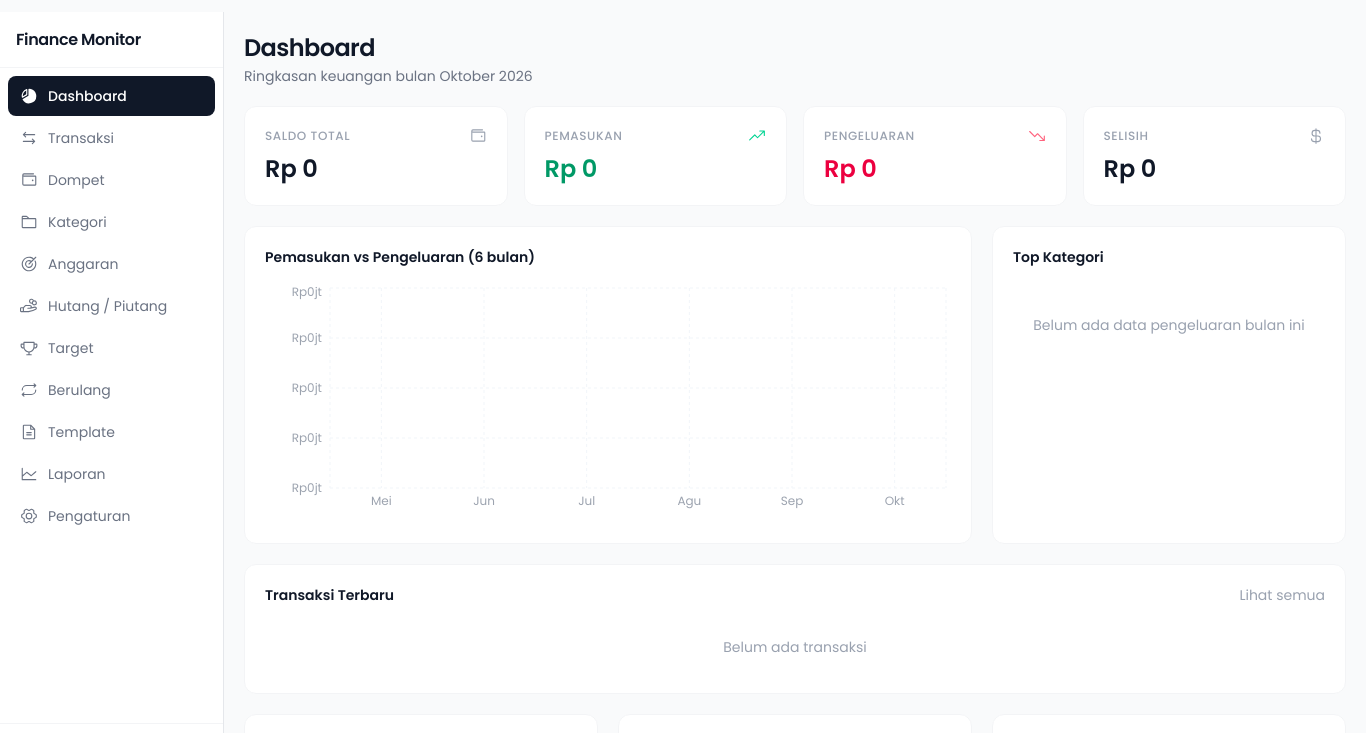
Test case: Navigation Integration › navigasi ke halaman Dompet saat link diklik
The image size is (1366, 733).
Click the link "Dompet": (62, 180) 20,170 -> 104,190
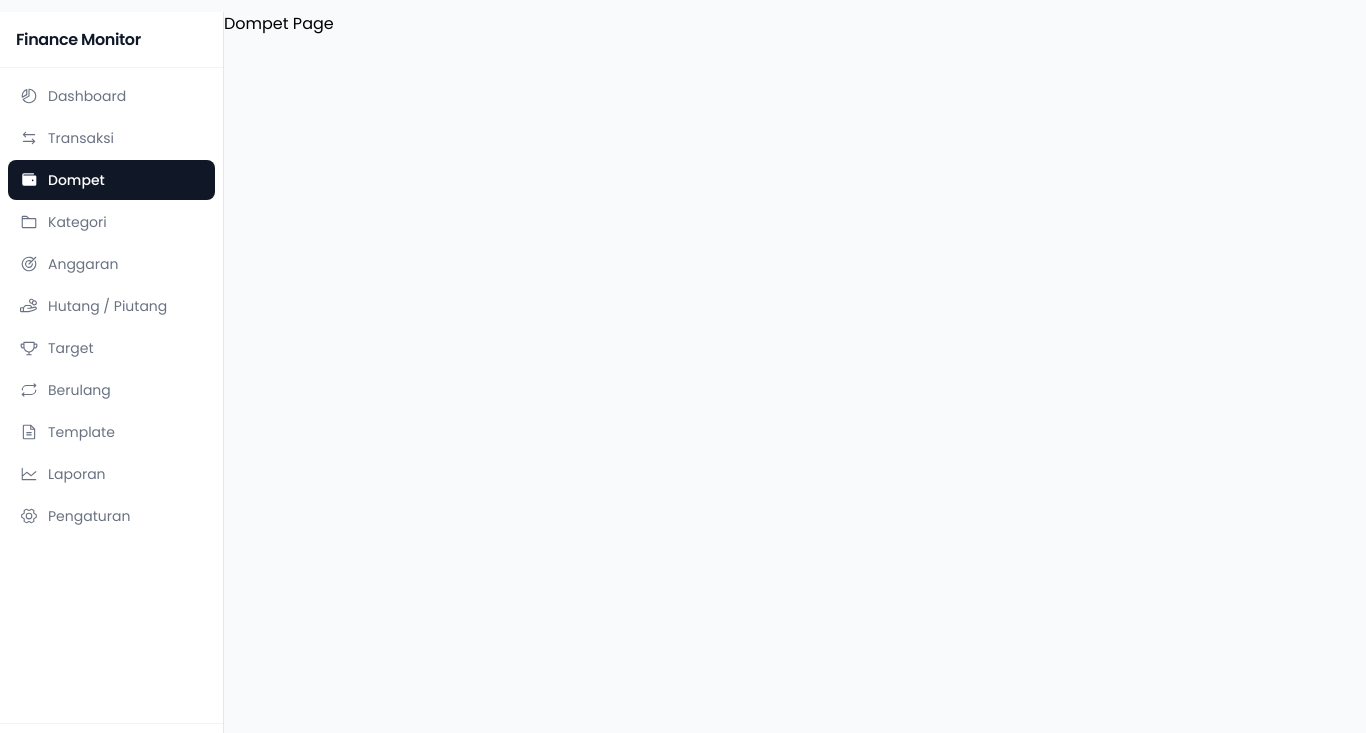
Expected: the text "Dompet Page" is shown, 224,12 -> 334,35
